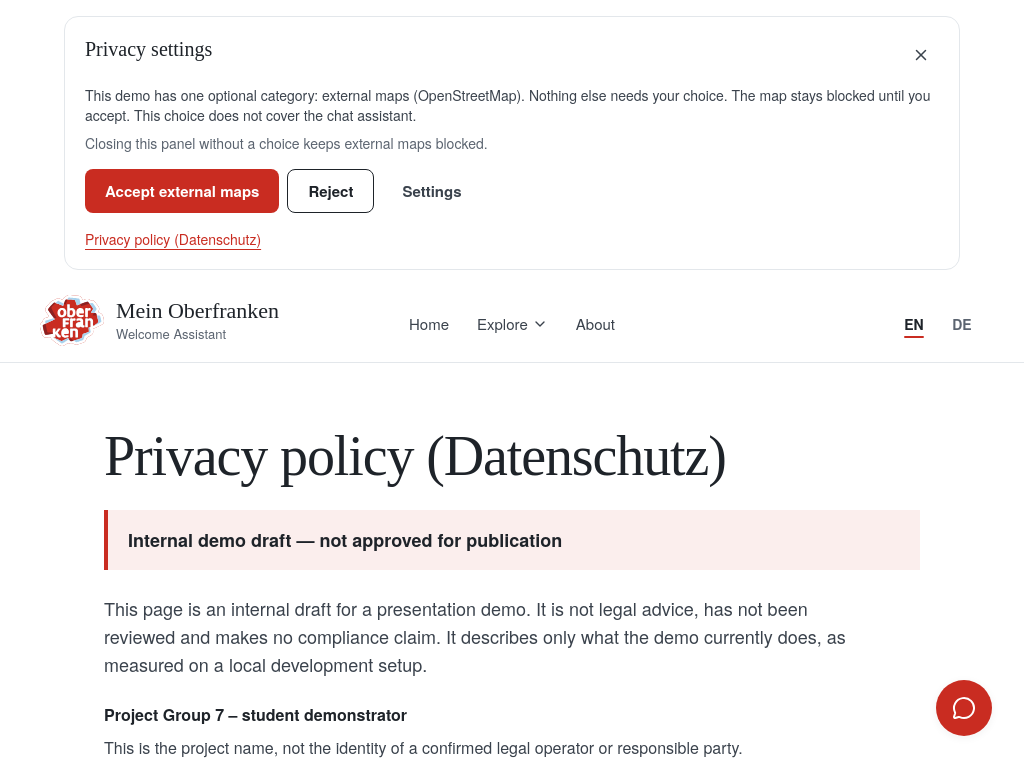
Test: legal pages in de › /datenschutz opens directly, with the draft status shown prominently
Click the button with aria-label "Deutsch".
click(962, 324)  # box [940, 302, 984, 346]
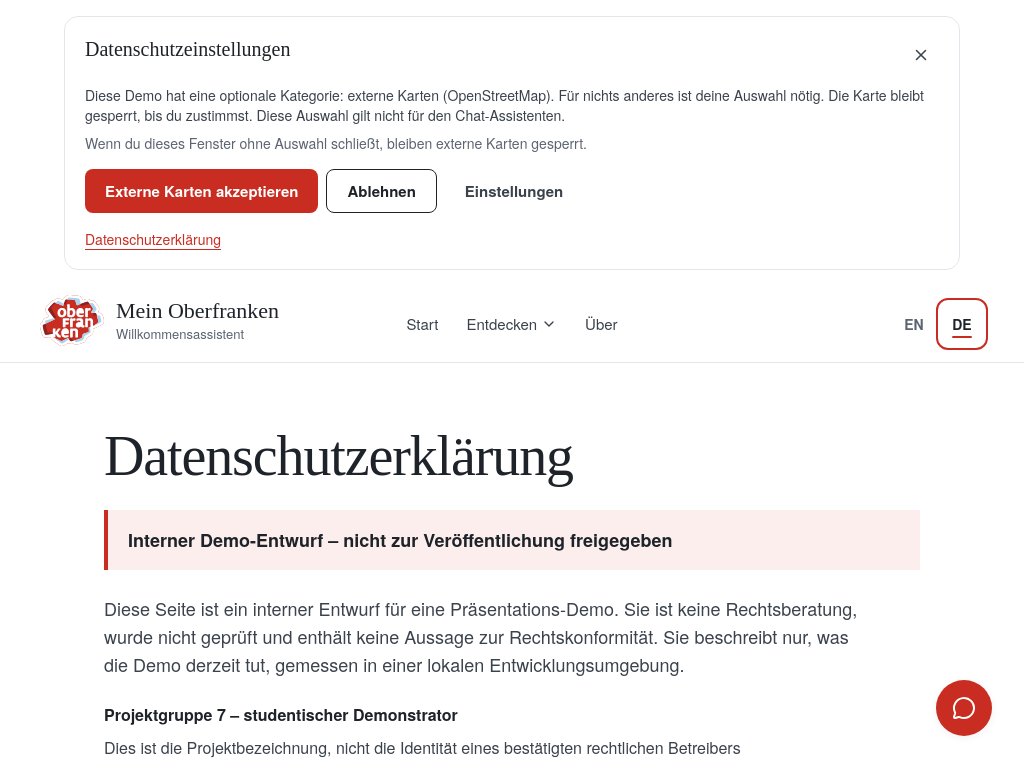
Now the heading "Datenschutzerklärung" is shown, box [104, 425, 573, 487]
Now the text "Interner Demo-Entwurf – nicht zur Veröffentlichung freigegeben" is shown, box [104, 510, 920, 570]
